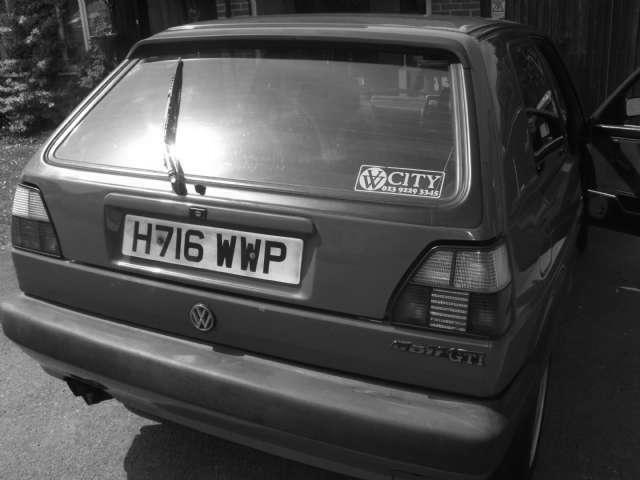car: (1, 15, 586, 480)
